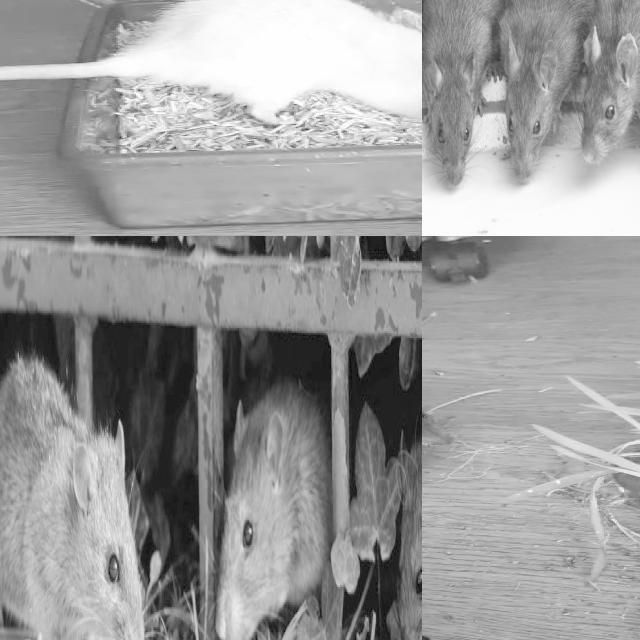rat: (0, 363, 147, 640), (120, 0, 422, 124), (216, 393, 326, 640), (499, 0, 587, 179), (422, 0, 496, 182), (577, 0, 640, 166), (394, 421, 422, 640)
